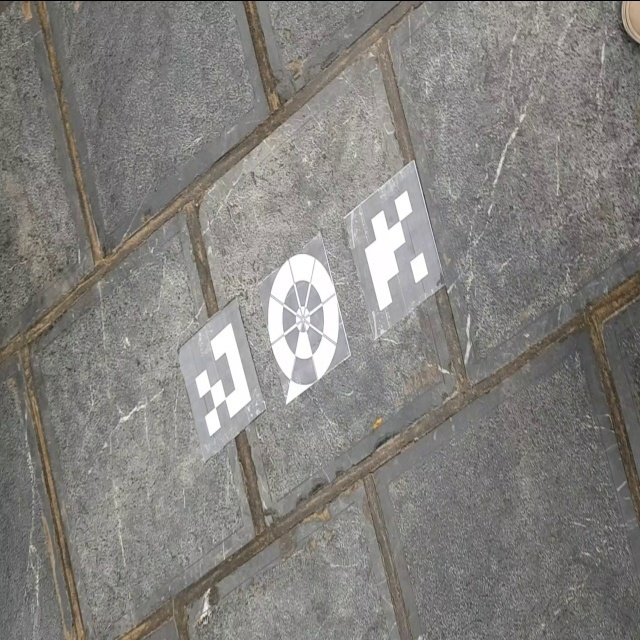landing-zone: (252, 225, 355, 409)
